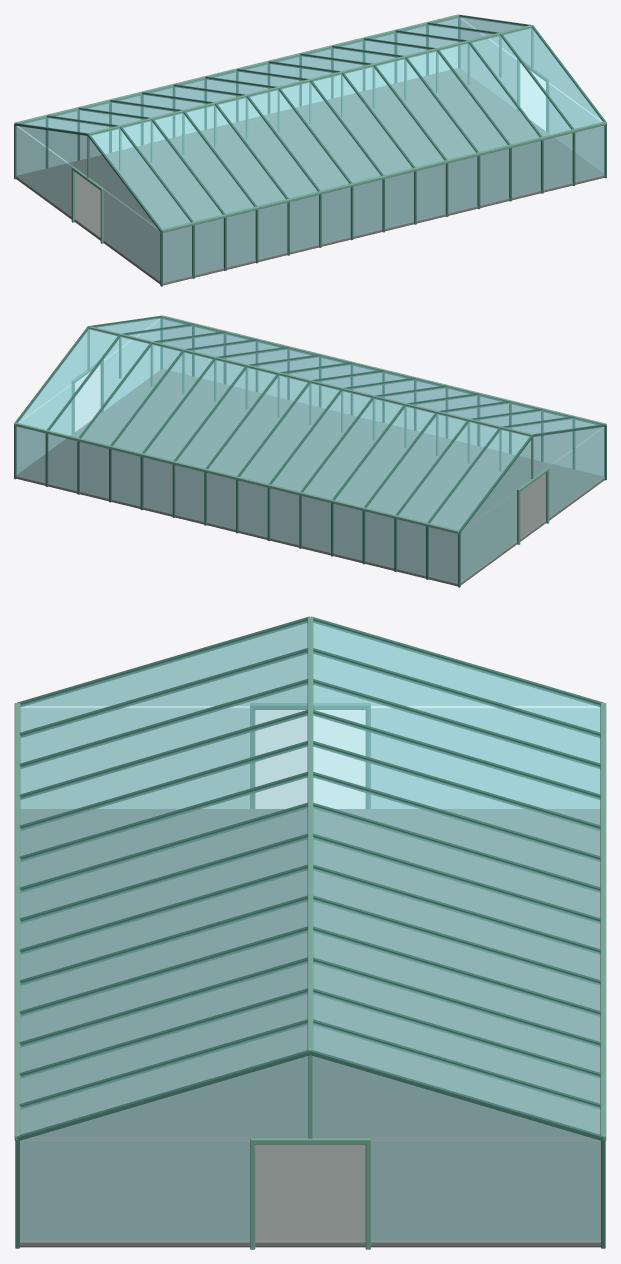
File: FTF_Building_Greenhouse_Glass_28x16m.glb
3 renders of one model, top to bottom at view 1: azimuth 30°, elevation 25°; view 2: azimuth 150°, elevation 25°; view 3: azimuth 270°, elevation 25°, orthographic. The views are drawn at different scales.
Visible parts, largest first — view 1: Greenhouse_Foundation, Glass_Roof_Left_06, Glass_Roof_Left_10, Glass_Roof_Left_03, Glass_Roof_Left_11, Glass_Roof_Left_07, Glass_Roof_Left_13, Glass_Roof_Left_01, Glass_Roof_Left_12, Glass_Roof_Left_04, Glass_Roof_Left_08, Glass_Roof_Left_00 (+69 smaller); view 2: Greenhouse_Foundation, Glass_Roof_Right_02, Glass_Roof_Right_07, Glass_Roof_Right_09, Glass_Roof_Right_11, Glass_Roof_Right_13, Glass_Roof_Right_06, Glass_Roof_Right_10, Glass_Roof_Right_12, Glass_Roof_Right_04, Glass_Roof_Right_08, Glass_Roof_Right_00 (+69 smaller); view 3: Greenhouse_Foundation, Glass_Gable_Rear, Glass_RearLower_Left, Glass_RearLower_Right, Glass_Gable_Front, Glass_FrontLower_Left, Glass_FrontLower_Right, Glass_Roof_Right_07, Glass_Roof_Left_06, Glass_Roof_Right_06, Glass_Roof_Left_13, Glass_Roof_Right_10 (+57 smaller).
Boxes of the visible parts, <box> form: Greenhouse_Foundation: <box>16,68,604,285</box>; Glass_Roof_Left_06: <box>281,82,381,182</box>; Glass_Roof_Left_10: <box>408,51,507,151</box>; Glass_Roof_Left_03: <box>186,105,285,205</box>; Glass_Roof_Left_11: <box>440,43,539,144</box>; Glass_Roof_Left_07: <box>313,74,412,174</box>; Glass_Roof_Left_13: <box>503,27,602,128</box>; Glass_Roof_Left_01: <box>122,120,222,221</box>; Glass_Roof_Left_12: <box>471,35,571,136</box>; Glass_Roof_Left_04: <box>218,97,317,198</box>; Glass_Roof_Left_08: <box>344,66,444,167</box>; Glass_Roof_Left_00: <box>91,128,190,229</box>; Greenhouse_Foundation: <box>16,369,604,586</box>; Glass_Roof_Right_02: <box>366,414,465,514</box>; Glass_Roof_Right_07: <box>208,375,307,475</box>; Glass_Roof_Right_09: <box>144,359,244,460</box>; Glass_Roof_Right_11: <box>81,344,180,445</box>; Glass_Roof_Right_13: <box>18,328,117,429</box>; Glass_Roof_Right_06: <box>240,383,339,483</box>; Glass_Roof_Right_10: <box>113,352,212,452</box>; Glass_Roof_Right_12: <box>49,336,149,437</box>; Glass_Roof_Right_04: <box>303,398,402,499</box>; Glass_Roof_Right_08: <box>176,367,276,468</box>; Glass_Roof_Right_00: <box>430,429,529,530</box>; Greenhouse_Foundation: <box>20,809,600,1247</box>; Glass_Gable_Rear: <box>29,1056,591,1138</box>; Glass_RearLower_Left: <box>20,1140,249,1241</box>; Glass_RearLower_Right: <box>371,1140,600,1241</box>; Glass_Gable_Front: <box>27,623,593,705</box>; Glass_FrontLower_Left: <box>21,708,250,808</box>; Glass_FrontLower_Right: <box>370,708,599,808</box>; Glass_Roof_Right_07: <box>313,837,600,948</box>; Glass_Roof_Left_06: <box>20,806,307,917</box>; Glass_Roof_Right_06: <box>313,806,600,917</box>; Glass_Roof_Left_13: <box>20,1023,307,1134</box>; Glass_Roof_Right_10: <box>313,930,600,1041</box>.
Size of the model in its own units: 28.24 by 5.98 by 16.16.
